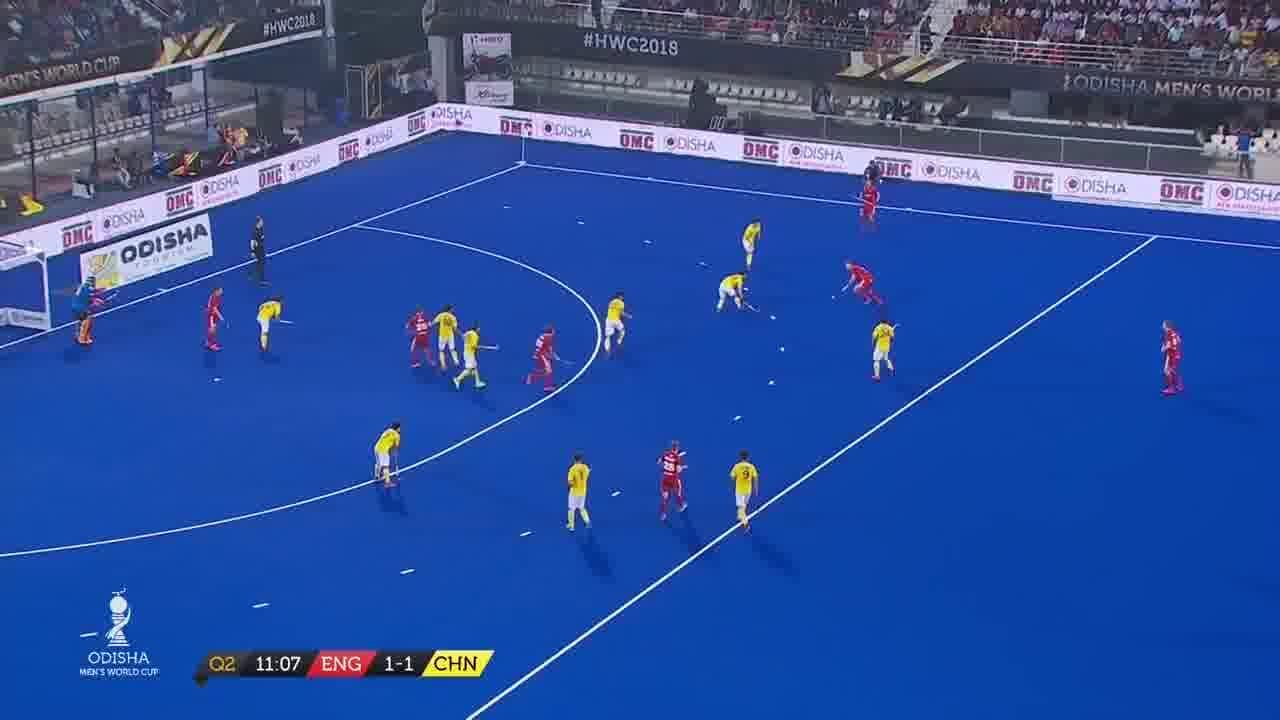ball: (829, 291, 840, 307)
